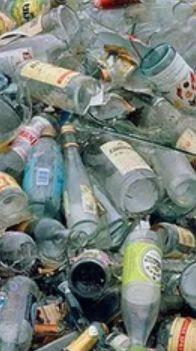glass: (79, 126, 162, 219), (11, 56, 98, 115), (0, 4, 86, 62), (61, 121, 103, 234), (124, 232, 161, 350), (138, 40, 196, 115), (21, 126, 64, 214), (151, 134, 196, 205), (0, 274, 41, 351), (63, 248, 116, 299)
